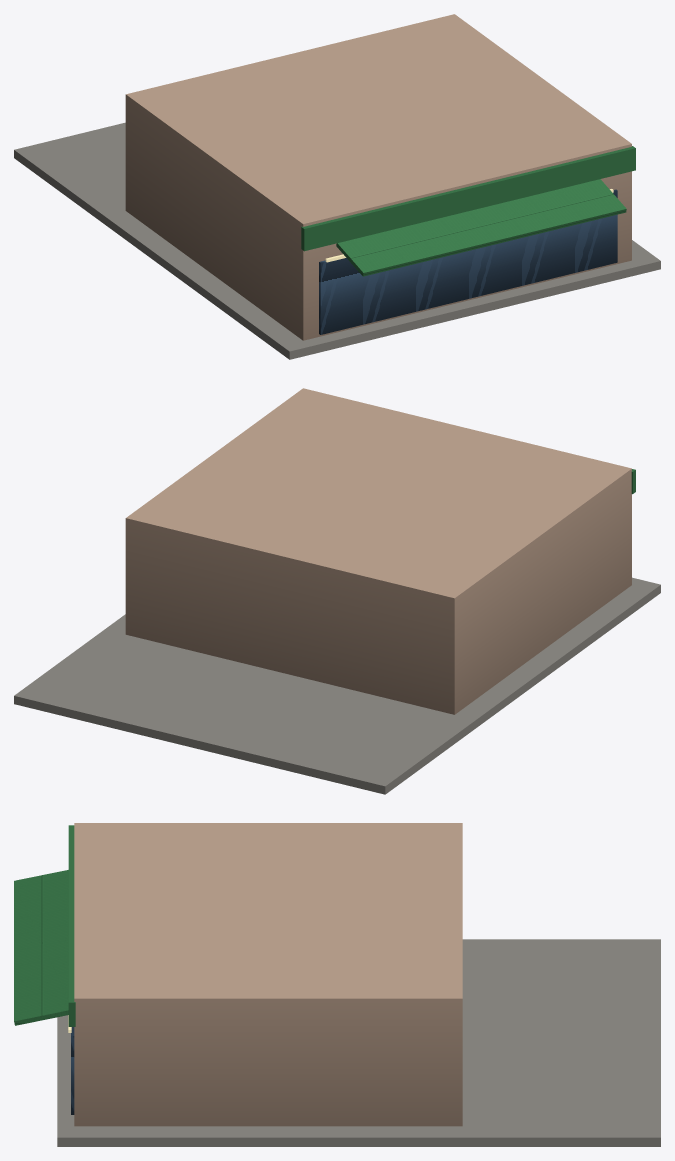
File: loja_4.glb
3 views of the same model, one above another, from view 1: azimuth 30°, elevation 25°; view 2: azimuth 150°, elevation 25°; view 3: azimuth 270°, elevation 25° (orthographic). The views are drawn at different scales.
Visible parts, largest first — view 1: loja_4_liso, loja_4; view 2: loja_4_liso; view 3: loja_4_liso, loja_4.
Part boxes in pixels (x1=…): loja_4_liso: x1=14, y1=14, x2=660, y2=359; loja_4: x1=319, y1=179, x2=626, y2=334; loja_4_liso: x1=14, y1=388, x2=660, y2=794; loja_4_liso: x1=57, y1=823, x2=660, y2=1146; loja_4: x1=14, y1=870, x2=74, y2=1114.
Size of the model in its own units: 14 by 4.5 by 19.29.
4 materials, 2 textured.
